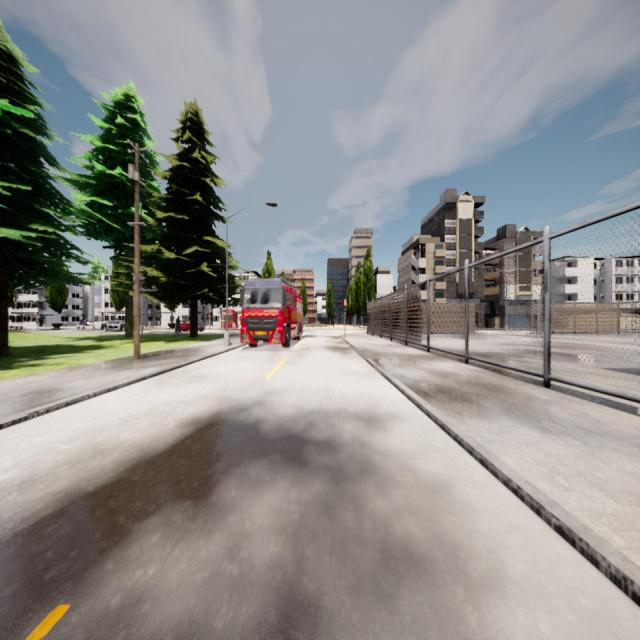Pedestrian: (175, 316, 181, 334)
Traffic_Signs: (36, 314, 40, 318)
Vehicle: (240, 278, 302, 346), (101, 321, 125, 332), (181, 320, 204, 331)
traffic_light: (344, 303, 346, 312), (208, 314, 209, 319)
